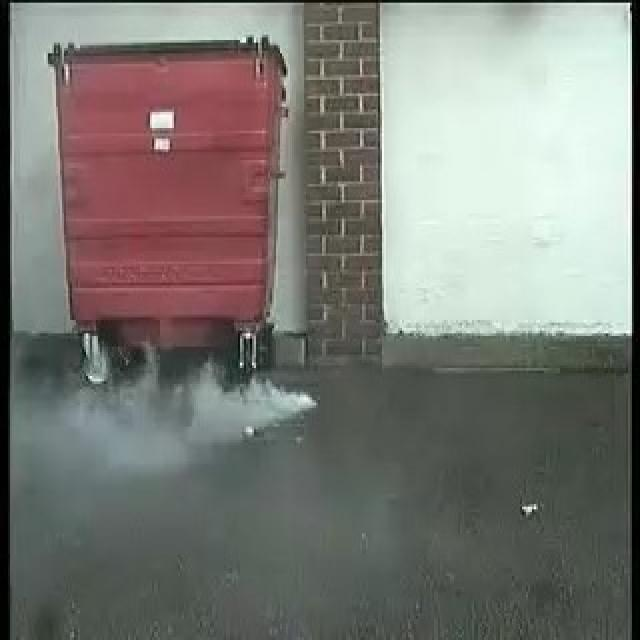smoke: (144, 384, 318, 447)
